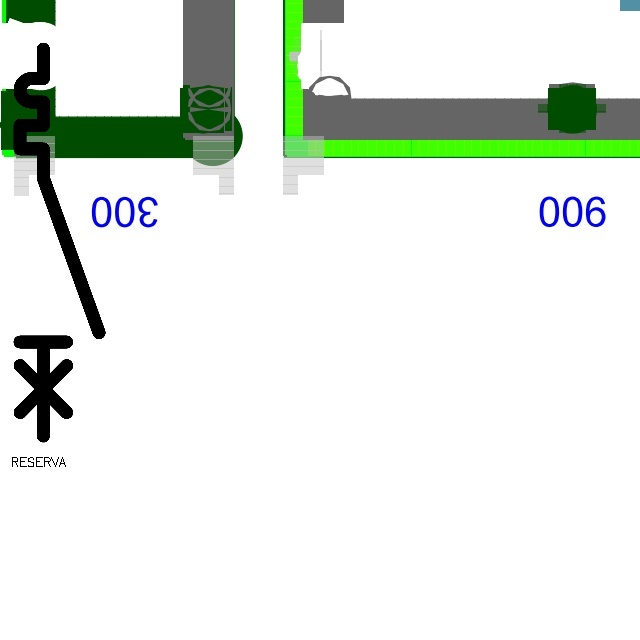interruptor_termomagnetico: (10, 39, 109, 445)
